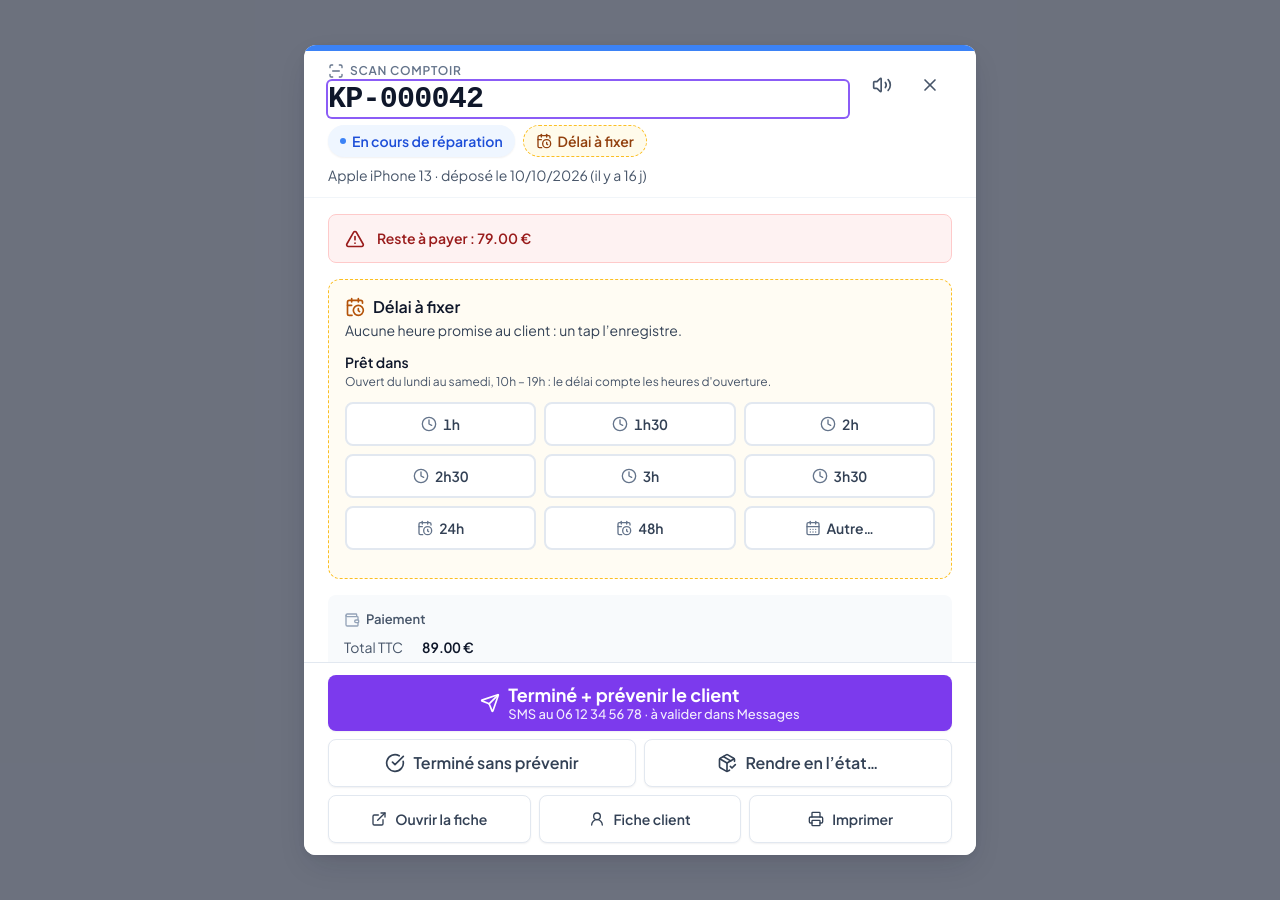
Test: QuickScanPanel : message « prêt » proposé après la fin de réparation › « Terminé sans prévenir » : aucune proposition, même si le serveur en propose une
Click the button "Terminé sans prévenir".
click(482, 763)  # box [328,739,636,787]
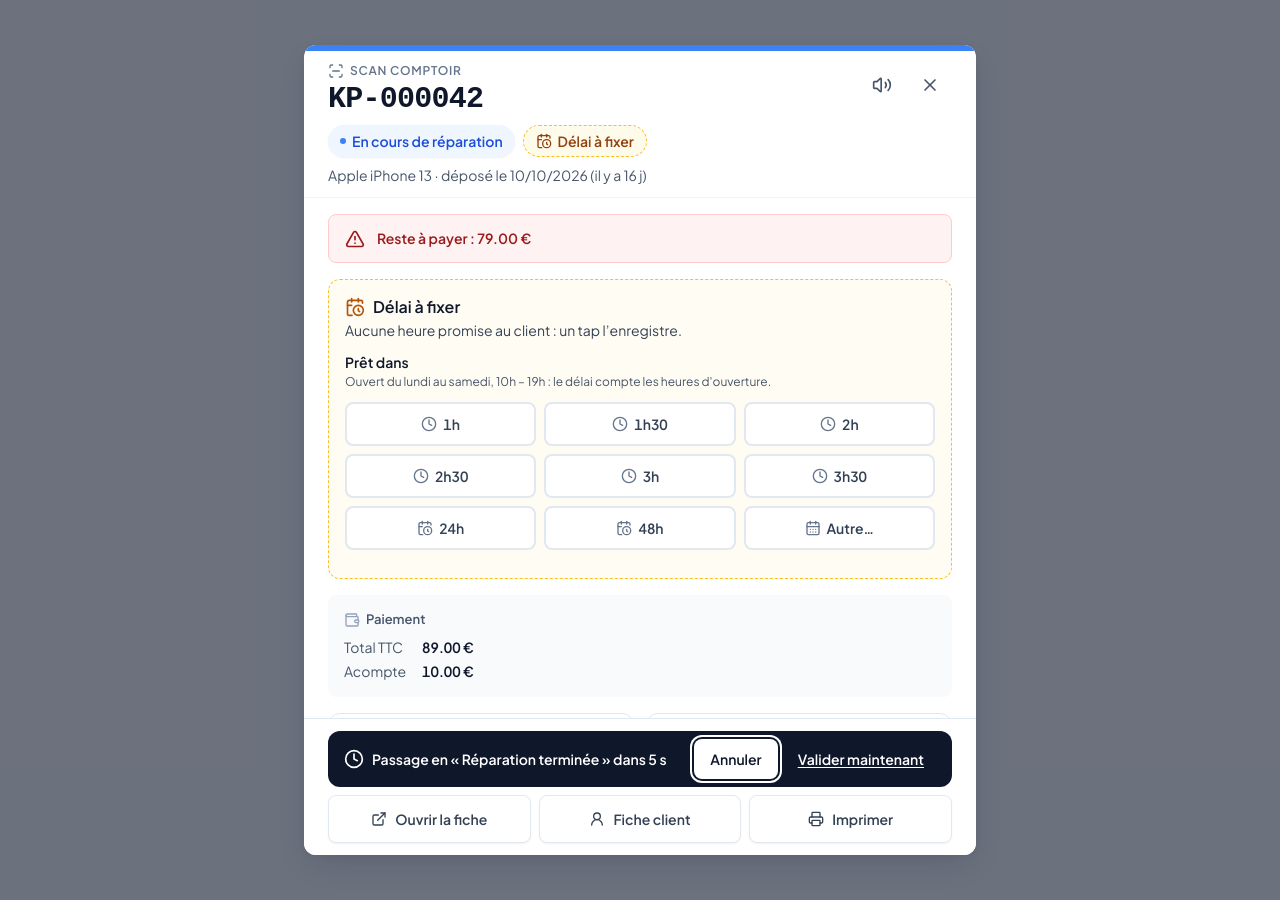
Click the button "Valider maintenant".
click(861, 759)  # box [786,739,936,779]
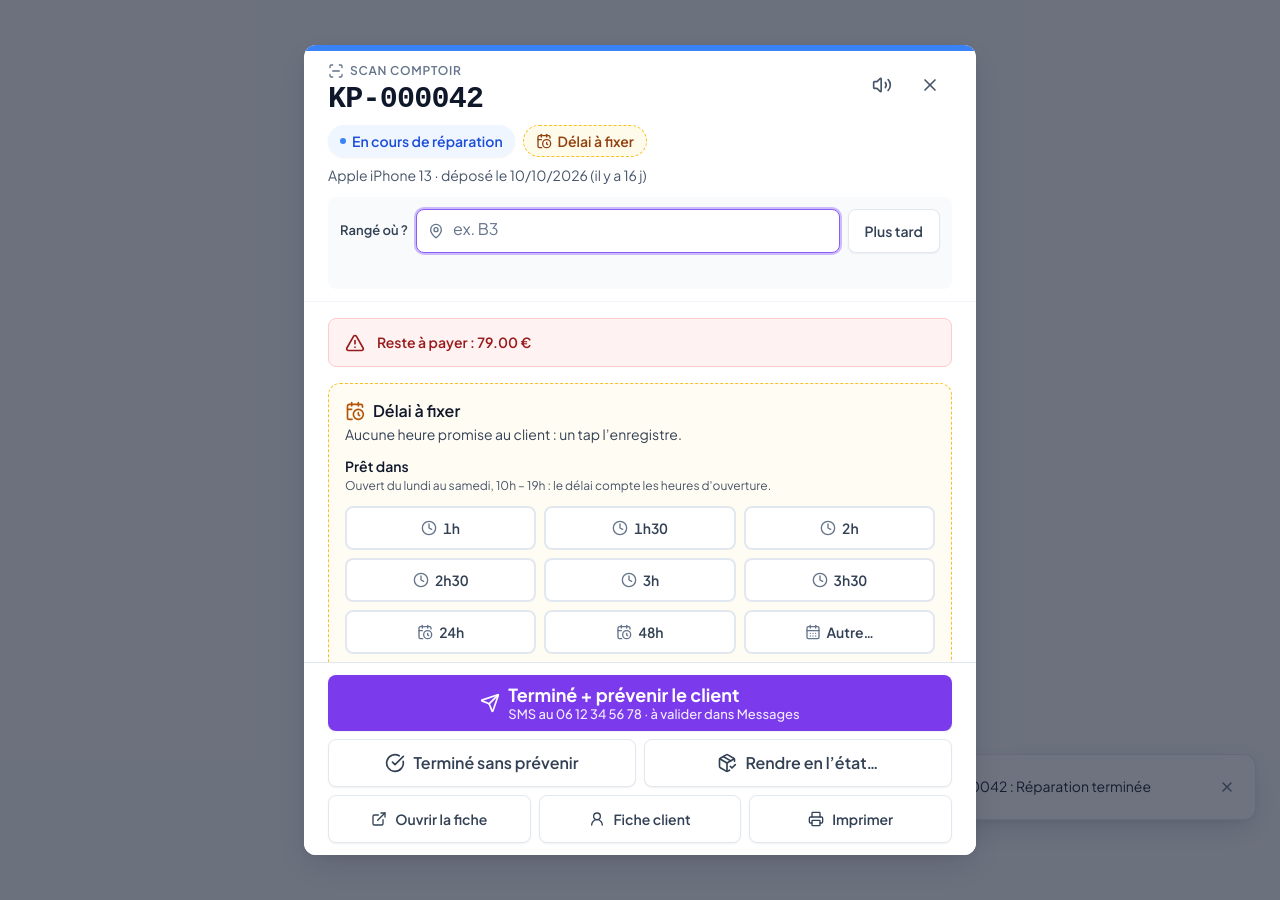
Result: the text "KP-000042 : Réparation terminée" is shown at [924,777,1151,795]
